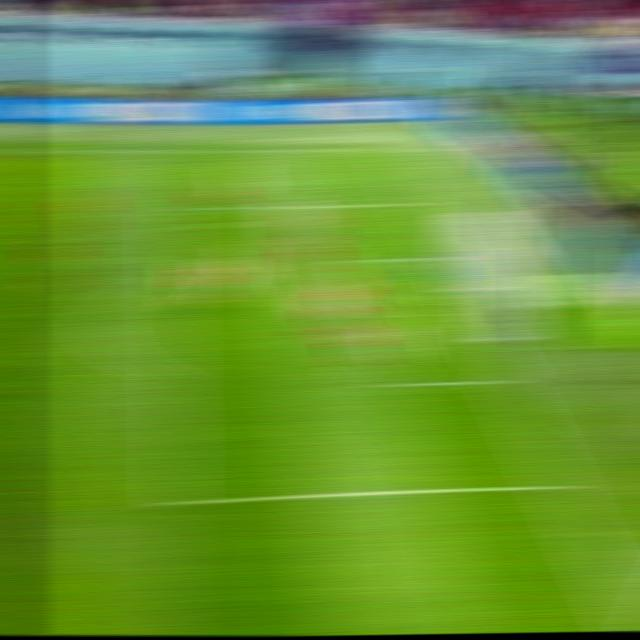bigarea_bottom_inner: (152, 485, 197, 515)
bigarea_bottom_outter: (537, 477, 576, 497)
bigarea_top_inner: (153, 200, 188, 217)
bigarea_top_outter: (401, 196, 433, 208)
bottom_arc_area_intersection: (152, 364, 193, 390)
corner: (372, 147, 406, 154)
smallarea_bottom_inner: (377, 370, 417, 396)
smallarea_bottom_outter: (485, 367, 526, 391)
smallarea_top_inner: (339, 253, 374, 270)
smallarea_top_outter: (425, 249, 461, 266)
top_arc_area_intersection: (152, 267, 189, 284)
